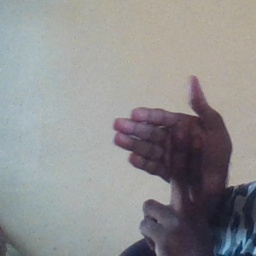N: (109, 73, 226, 224)
